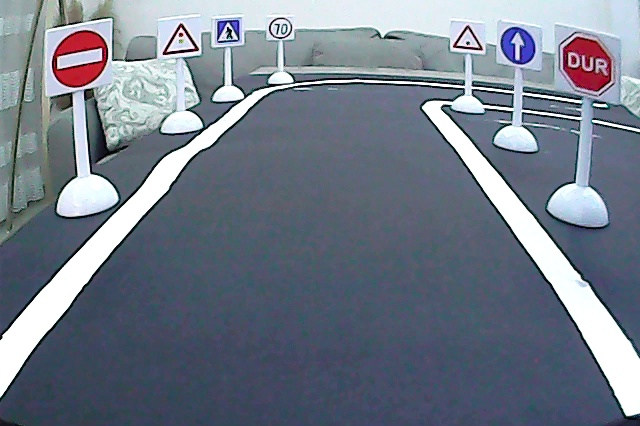do not enter: (50, 27, 109, 91)
green light: (452, 22, 484, 52)
pedestrian crossing: (214, 16, 243, 45)
red light: (157, 21, 200, 55)
speed limit 70: (269, 17, 292, 40)
stop sign: (558, 31, 617, 98)
